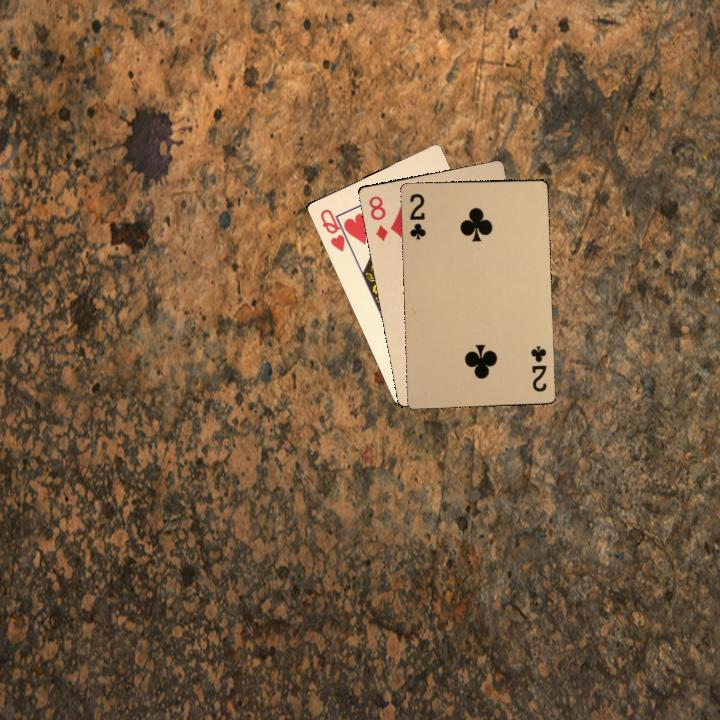2c: (405, 189, 428, 242), (527, 342, 549, 394)
8d: (365, 192, 391, 244)
Qh: (316, 205, 354, 254)
